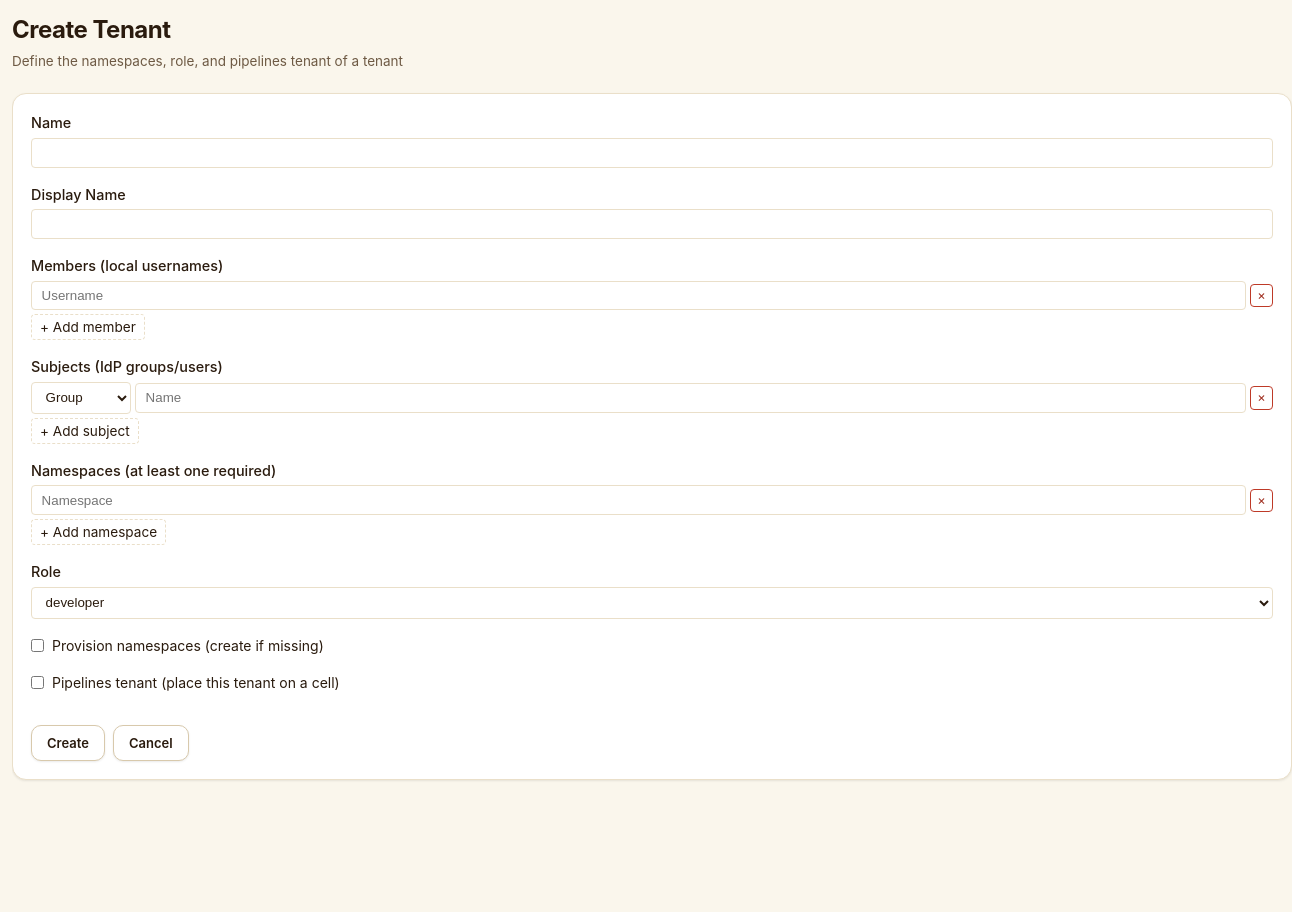
Test case: TenantForm › shows the conflict message on a create over an existing name
Type "alpha-team" into the 1st field at (652, 153), box x1=31 y1=138 x2=1273 y2=168
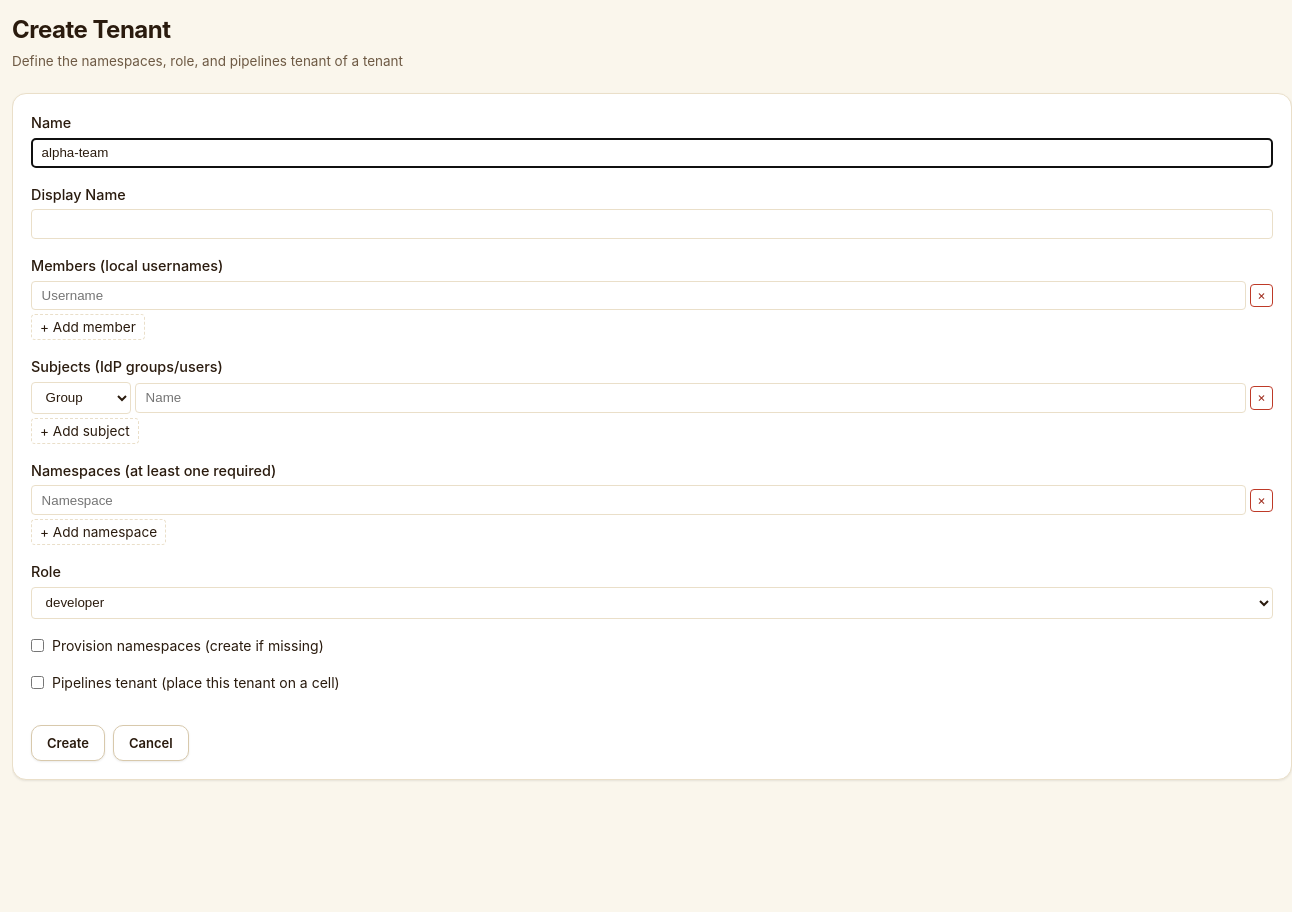
Type "alice" into the field with placeholder "Username" at (638, 296), box x1=31 y1=281 x2=1246 y2=310
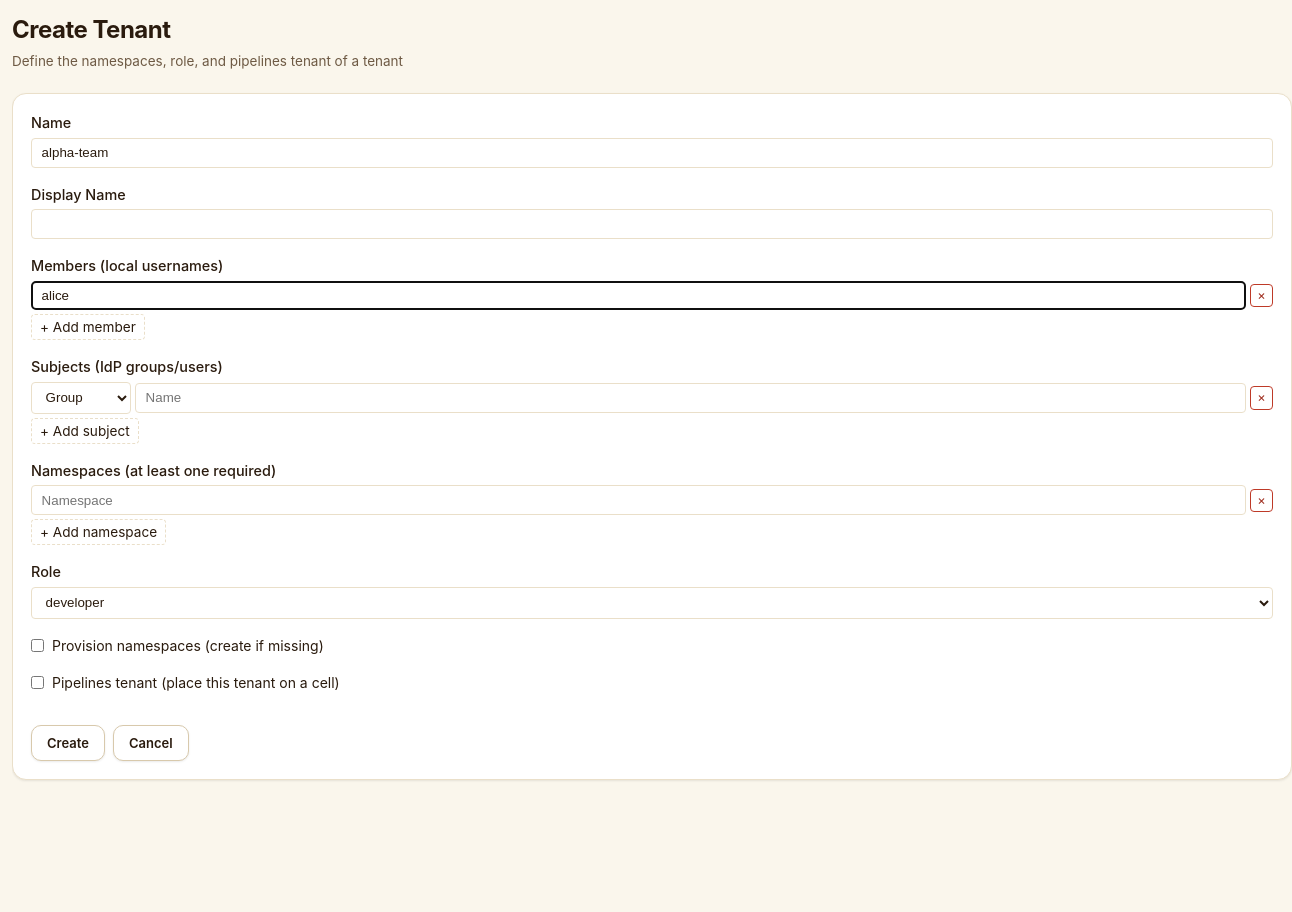
Type "team-alpha" into the field with placeholder "Namespace" at (638, 500), box x1=31 y1=485 x2=1246 y2=515
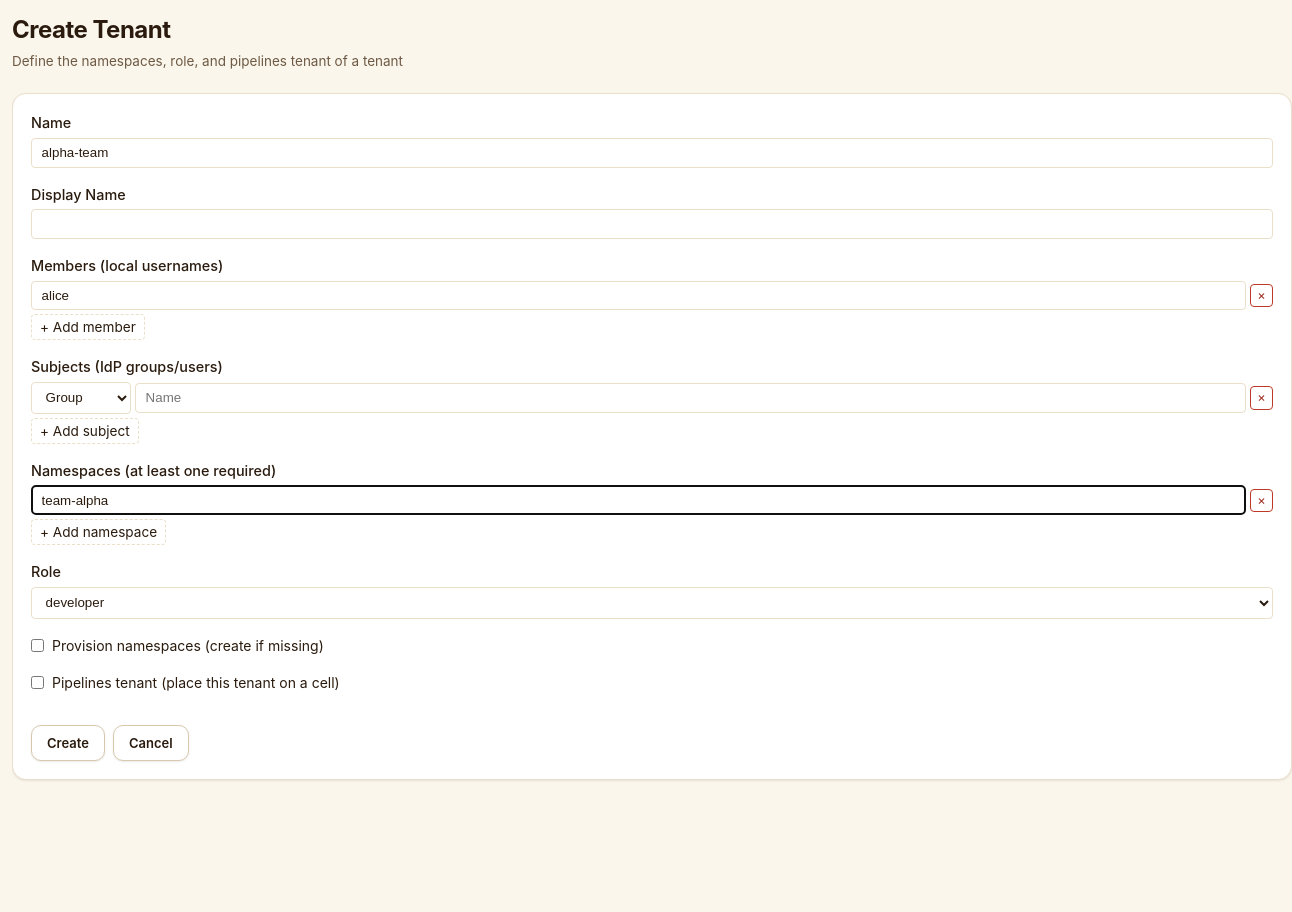
Click the button "Create" at (68, 743), box x1=31 y1=725 x2=105 y2=761
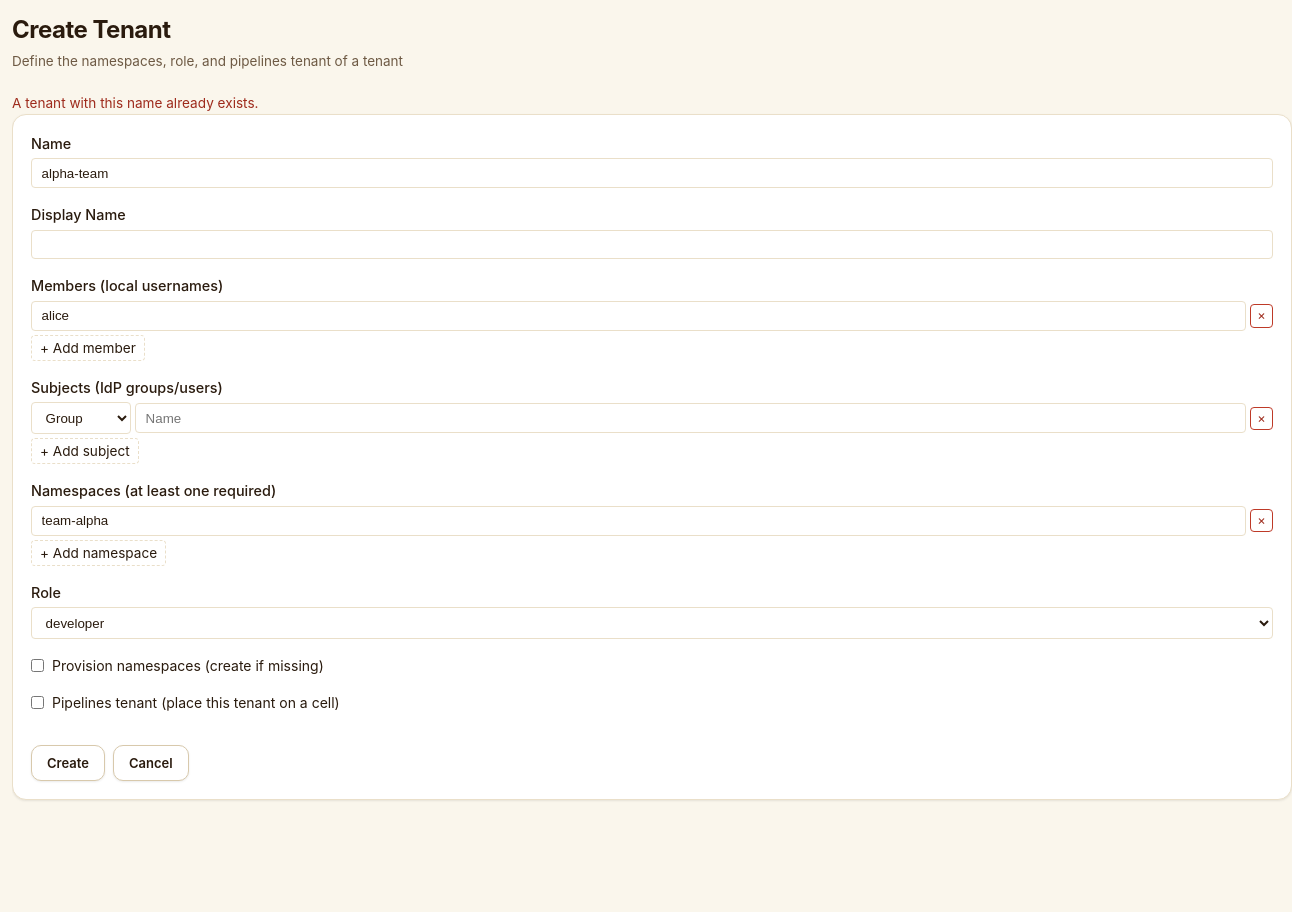
expect the text "A tenant with this name already exists." is shown: met, box x1=12 y1=95 x2=258 y2=111
